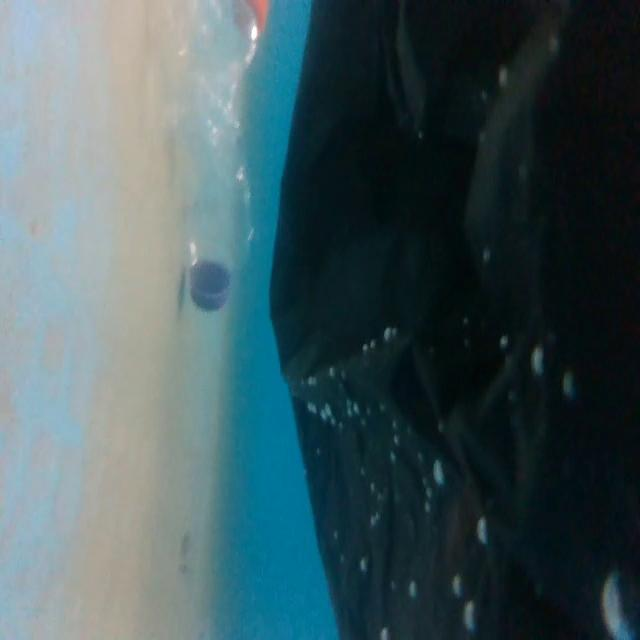plastic bags: (276, 2, 640, 640)
plastic bottle: (160, 0, 258, 320)
